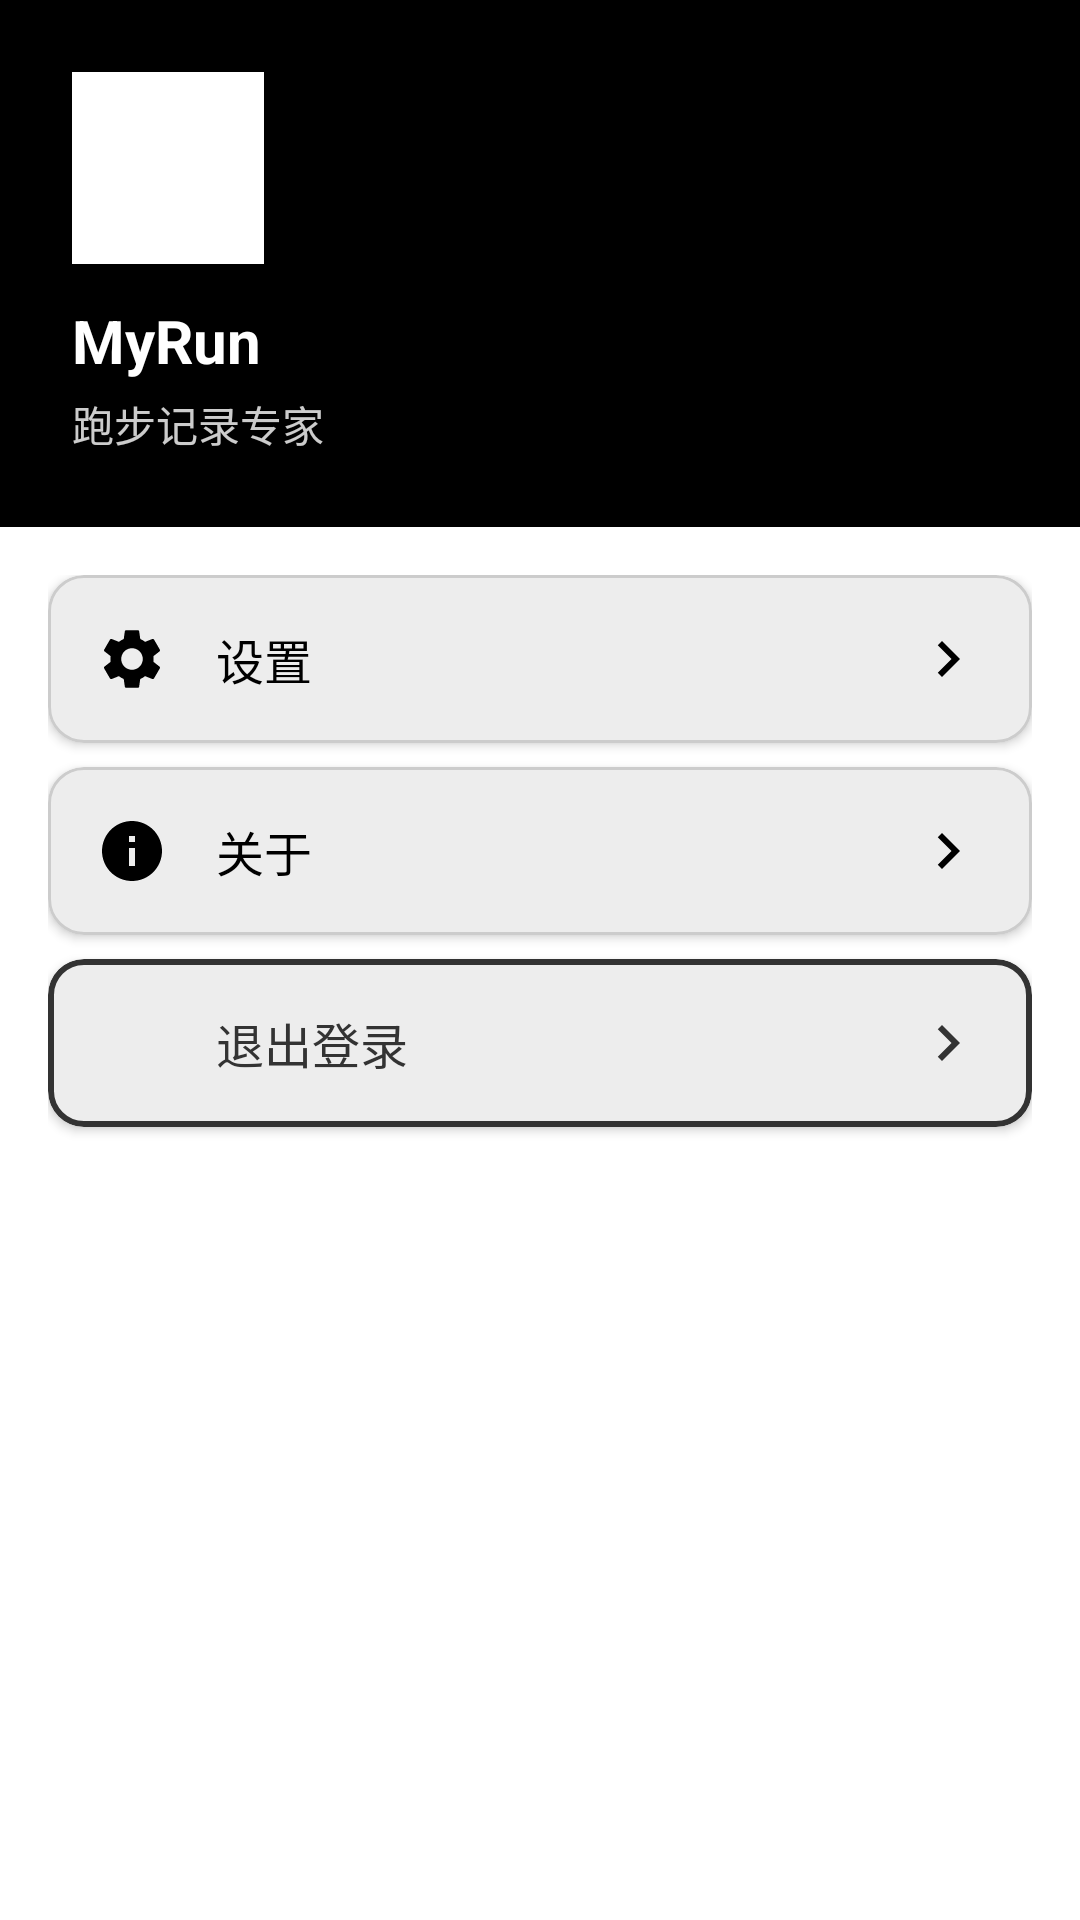

Point at icon controls on the screen. Image size 1080w x 1920h, points as point (x, y).
chevron right: point (949, 659), point (949, 851), point (949, 1043)
info: point (132, 851)
settings: point (132, 659)
